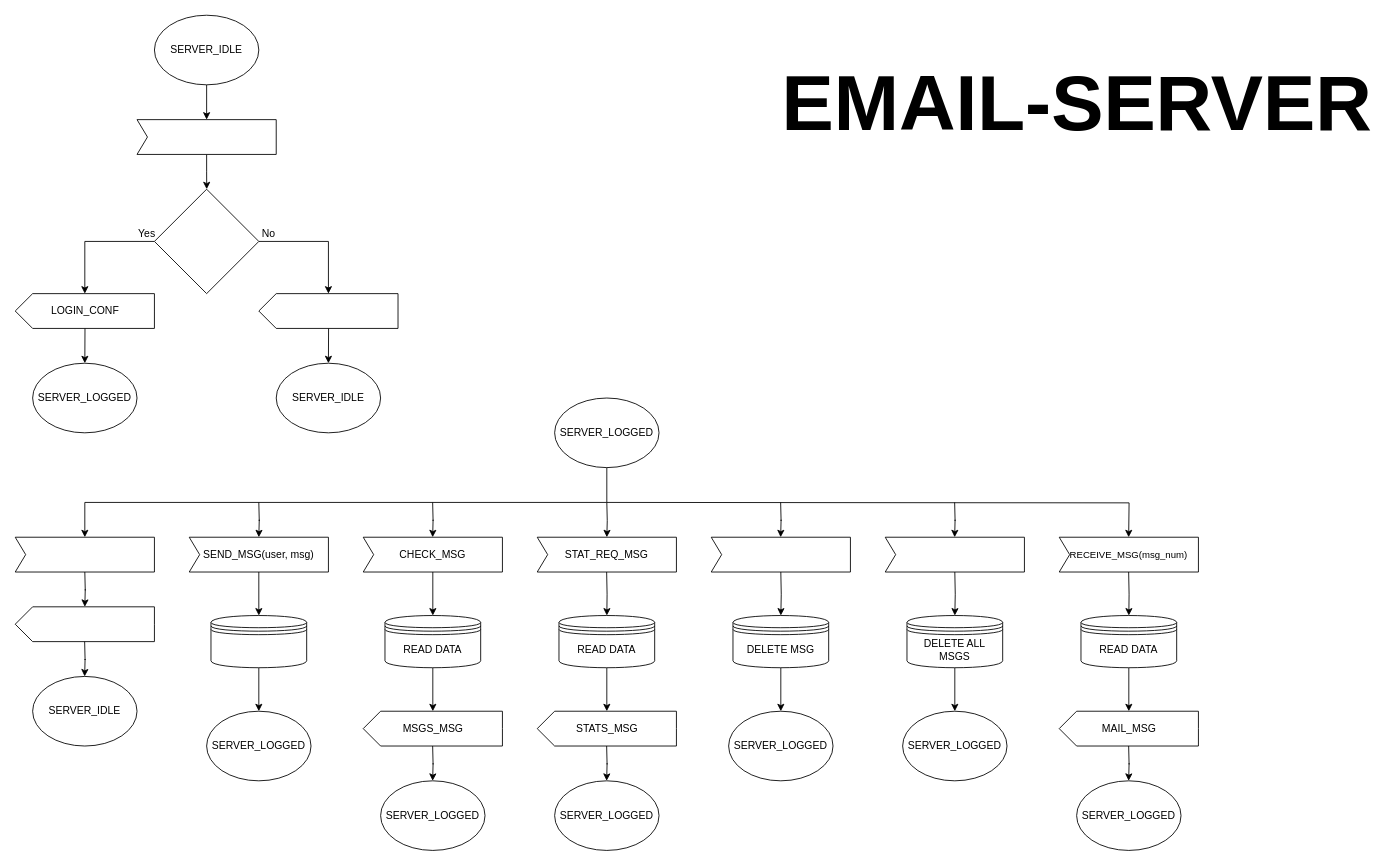
This 1387x866 diagram has some shape labels left out. Each missing label, with the box of its shape:
CLEAN_MSG: (884, 536, 1024, 572)
CREDENTIALS OK?: (154, 188, 259, 294)
DELETE_MSG(msg_num): (710, 536, 850, 572)
LOGIN_ERR: (258, 293, 398, 328)
LOGIN_REQ(user, pass): (136, 119, 276, 154)
LOGOUT_CONF: (14, 606, 154, 642)
LOGOUT_MSG: (14, 536, 154, 572)
SAVE MSG: (210, 615, 307, 668)
